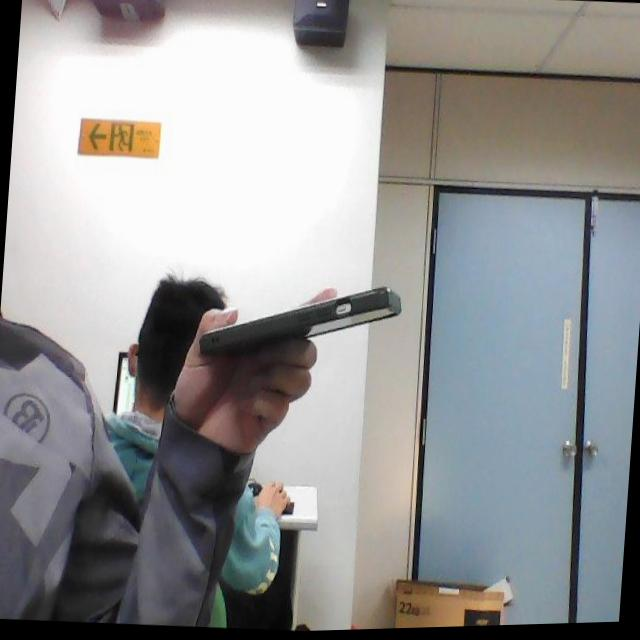Smartphone: (188, 273, 420, 379)
